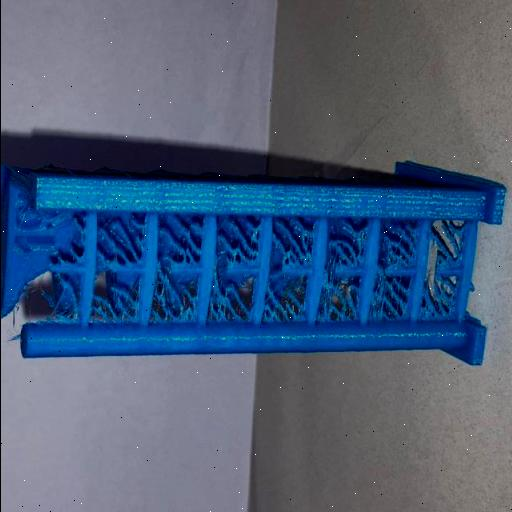stringing: (157, 277, 201, 322), (274, 211, 312, 263), (265, 270, 300, 326), (102, 215, 140, 263), (94, 286, 134, 328), (166, 219, 202, 265), (221, 216, 256, 262), (376, 272, 408, 322), (327, 278, 361, 324), (429, 220, 462, 262), (213, 284, 247, 320), (382, 220, 408, 266), (332, 225, 366, 260), (424, 282, 453, 320)
